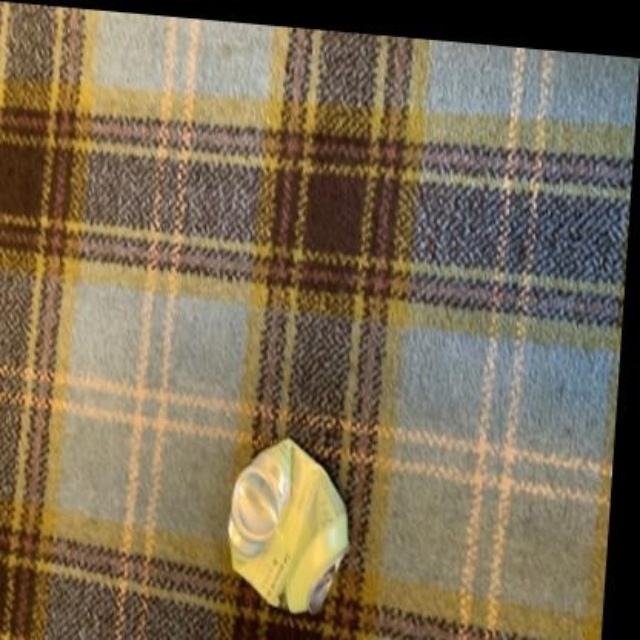trash: (228, 438, 346, 612)
